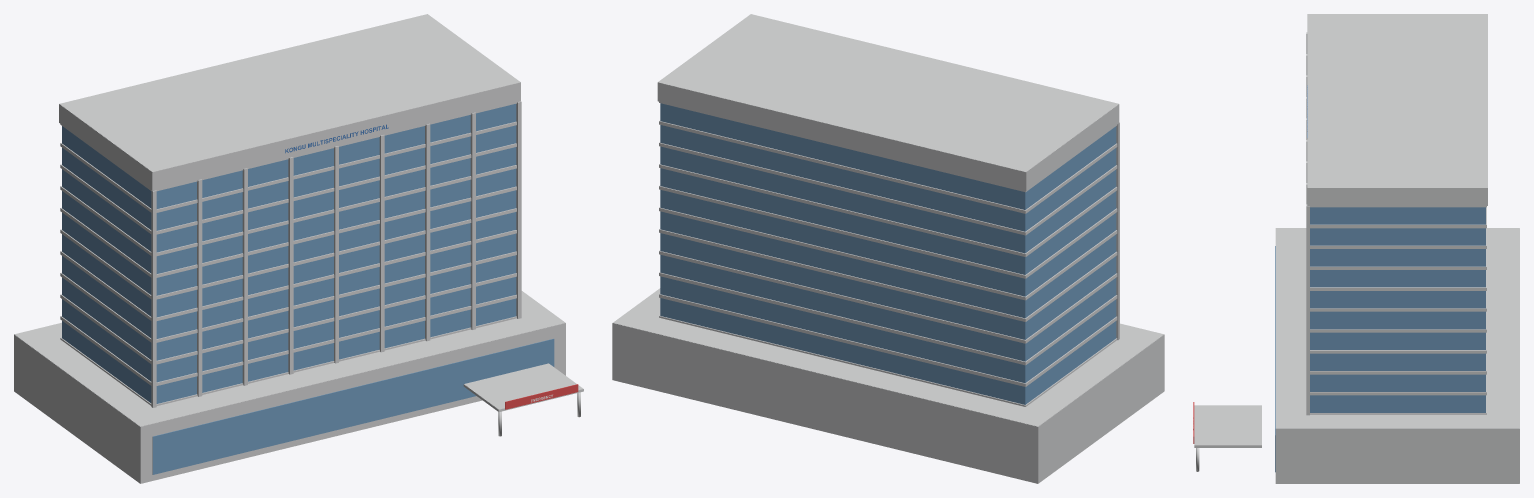
File: hospital_private_ao.glb
3 renders of one model, left to right at view 1: azimuth 30°, elevation 25°; view 2: azimuth 150°, elevation 25°; view 3: azimuth 270°, elevation 25°, orthographic. The views are drawn at different scales.
Parts seen in each view (by area): view 1: hospital_private; view 2: hospital_private; view 3: hospital_private.
Part boxes in pixels (x1,y1,x2,y2): hospital_private: [14, 14, 583, 483]; hospital_private: [612, 14, 1164, 483]; hospital_private: [1193, 14, 1519, 483].
Size of the model in its own units: 70 by 46 by 48.15.
